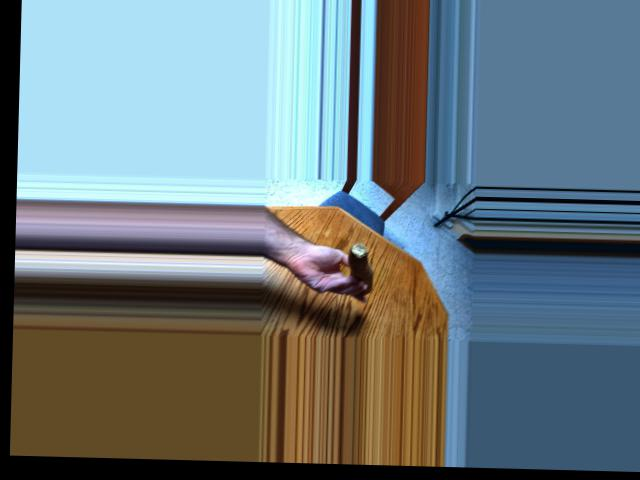sweet_potato: (334, 235, 376, 297)
